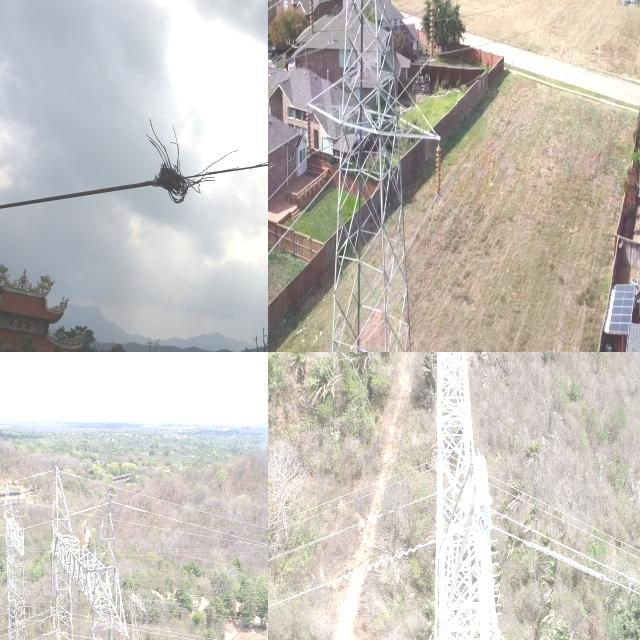杆塔: (302, 0, 439, 352), (47, 447, 167, 640), (433, 352, 489, 640), (0, 478, 39, 640)
正常绝缘子: (300, 100, 320, 162), (424, 0, 439, 70), (434, 136, 446, 220), (303, 0, 321, 45), (50, 550, 56, 608), (77, 587, 83, 640)
电缆破损: (141, 111, 268, 221)
